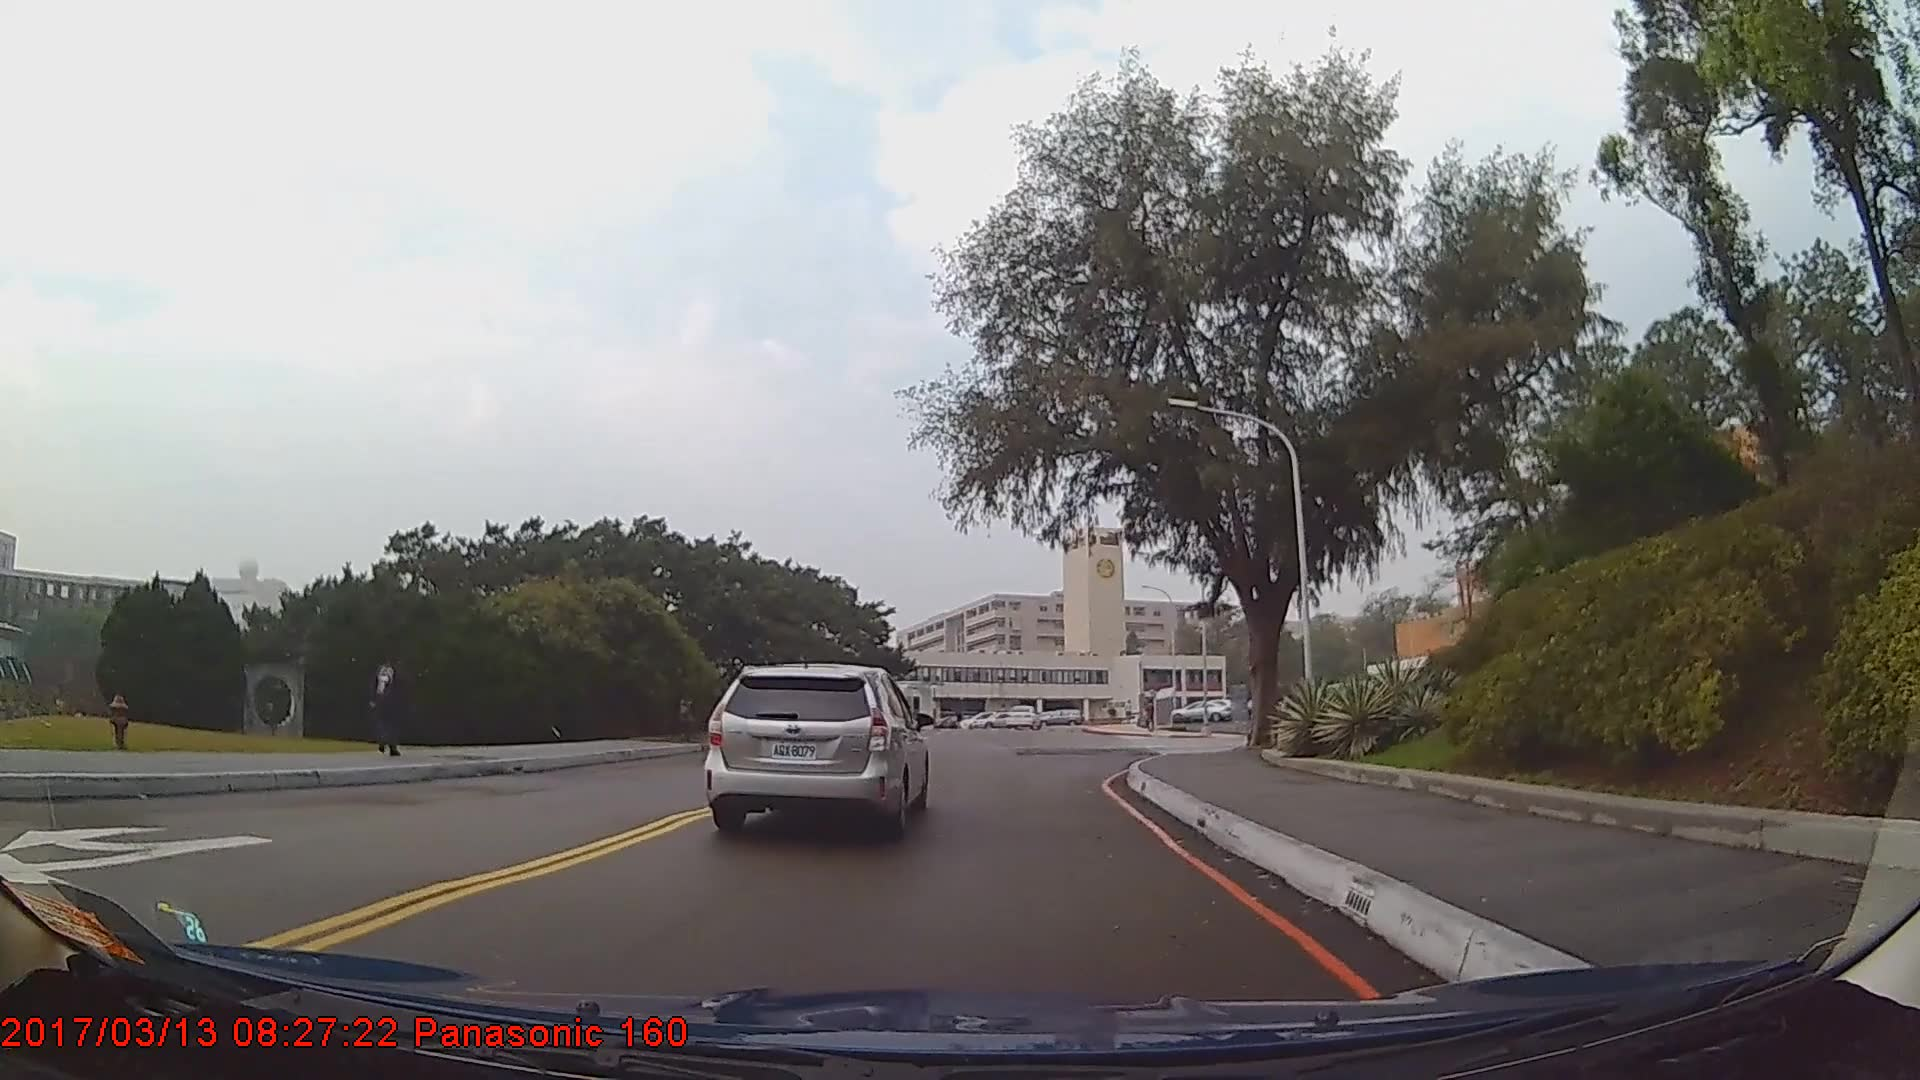pedestrian: (359, 647, 409, 756)
vehicle: (702, 659, 928, 838), (1168, 699, 1228, 721), (968, 704, 1018, 729), (1001, 700, 1042, 727)
